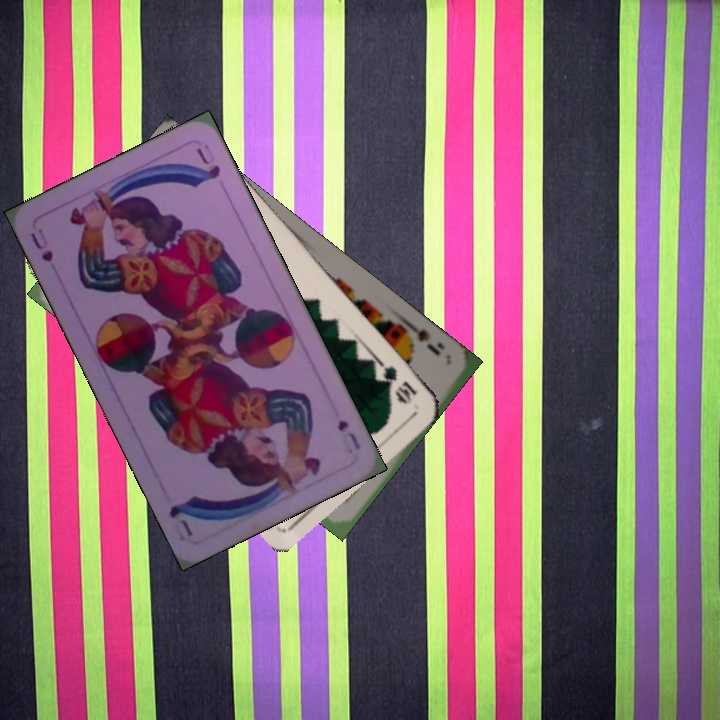G10: (375, 358, 420, 407)
S9: (397, 318, 447, 359)
SU: (26, 224, 56, 265), (333, 415, 363, 452)
